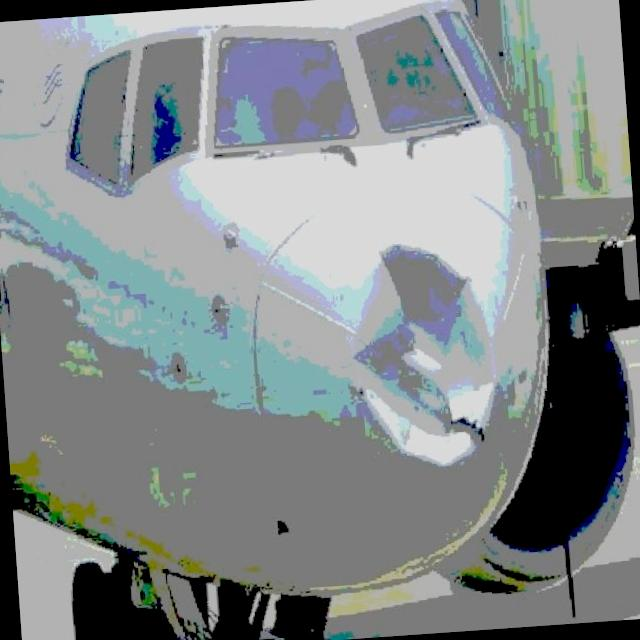dent: (330, 232, 514, 482)
